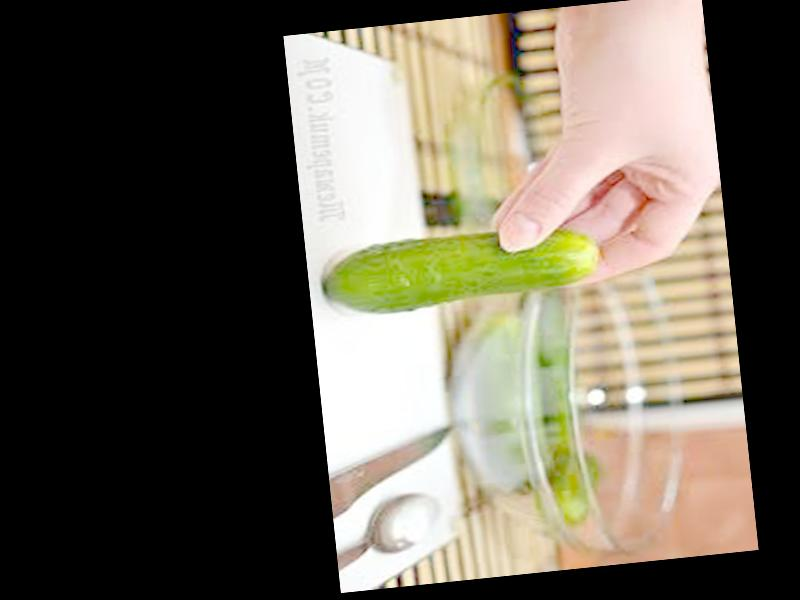Cucumber: (321, 220, 602, 319)
